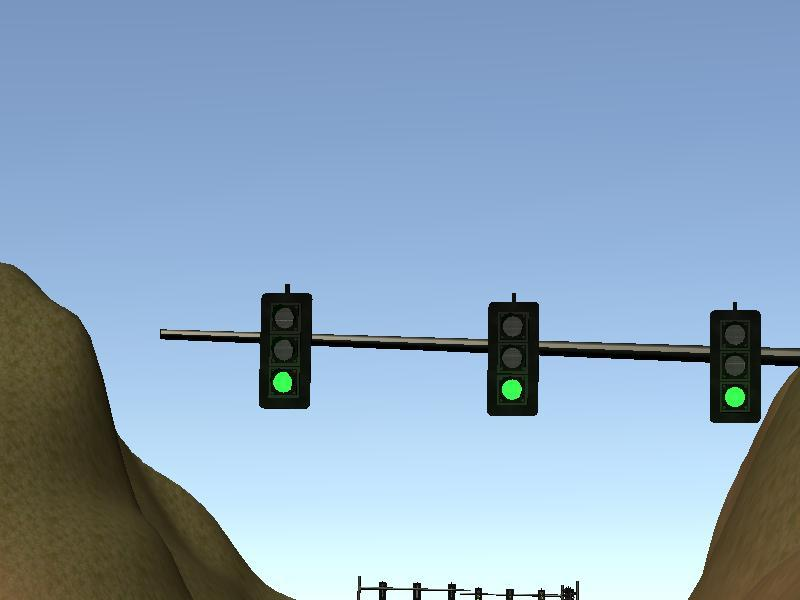Green: (259, 292, 313, 409), (487, 301, 541, 418), (709, 310, 762, 424)
